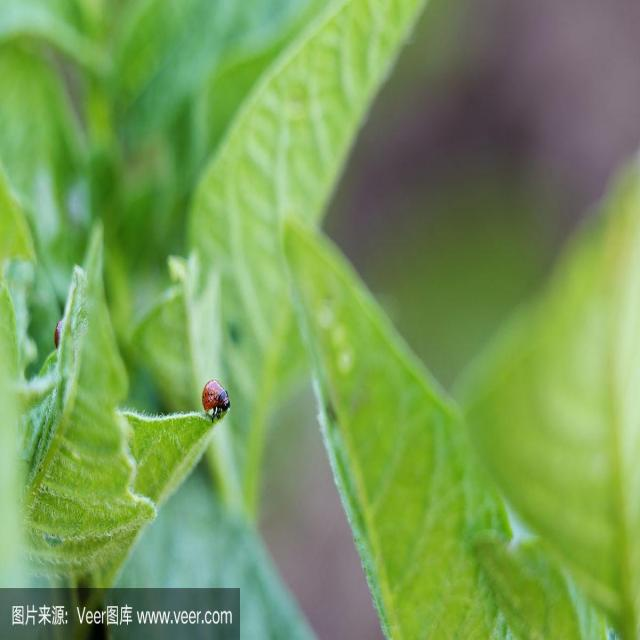ShuCaiHuaBanChong-Larva-: (194, 369, 237, 420)
